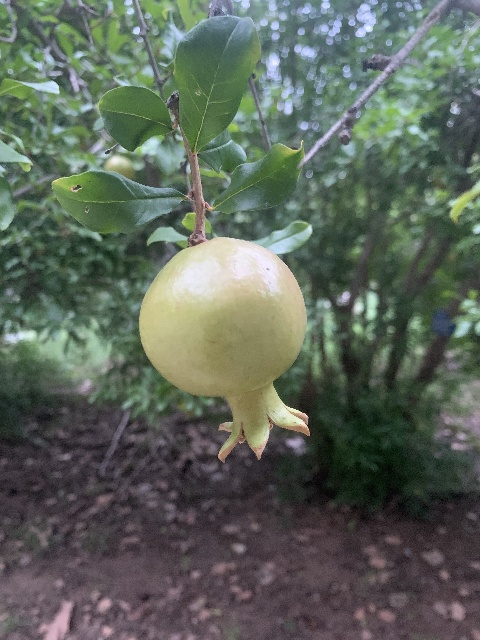mid-growth: (137, 236, 311, 464)
